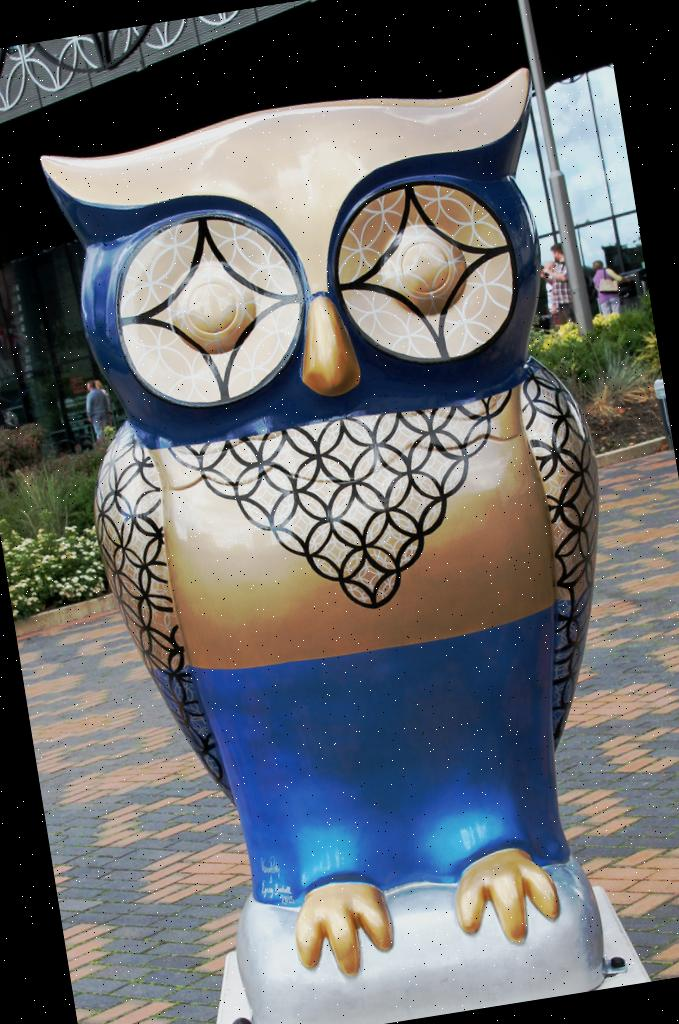Owl: (32, 64, 668, 1000)
